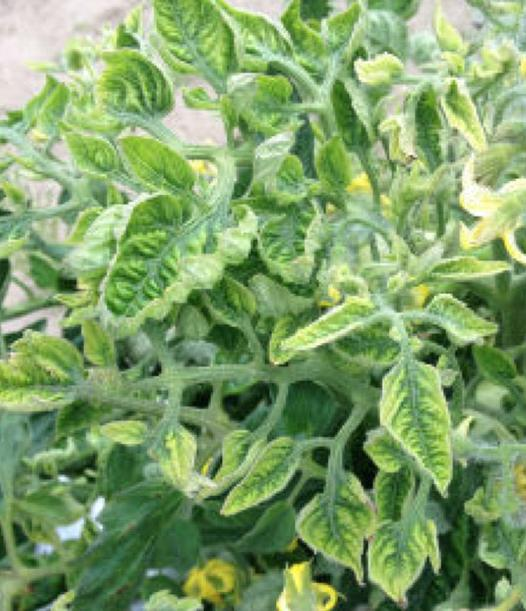Tomato leaf yellow virus: (84, 188, 265, 352), (368, 351, 472, 494), (360, 501, 479, 607), (0, 330, 96, 437), (236, 200, 347, 290), (98, 129, 210, 218), (125, 0, 238, 80), (214, 434, 308, 524), (296, 476, 381, 572), (452, 186, 526, 253)
